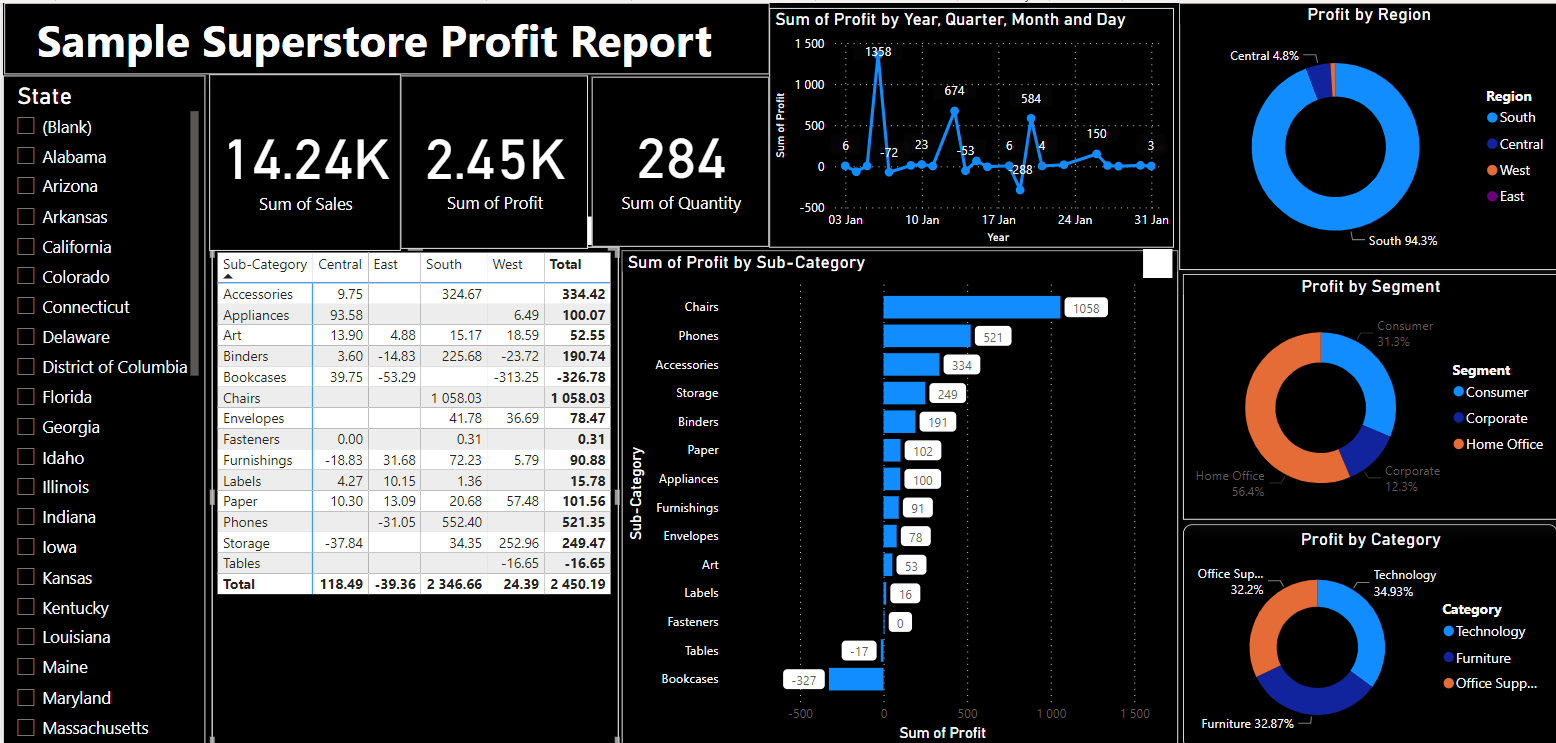

What the dashboard file says about the page in this screenshot:
{"tool":"powerbi","page":{"name":"Page 1","canvas":[1500,720],"ordinal":0},"visuals":[{"type":"textbox","box":[1,0,738.5,68.7],"z":0},{"type":"donutChart","title":"Profit by Category","fields":{"Category":["Orders.Category"],"Y":["Sum(Orders.Profit)"]},"box":[1138.8,503.1,361.2,216.9],"z":1000},{"type":"donutChart","title":"Profit by Region","fields":{"Y":["Sum(Orders.Profit)"],"Category":["Orders.Region"]},"box":[1134.7,0,365.3,257.4],"z":2000},{"type":"donutChart","title":"Profit by Segment","fields":{"Y":["Sum(Orders.Profit)"],"Series":["Orders.Segment"]},"box":[1138.8,261.4,361.2,237.1],"z":3000},{"type":"clusteredBarChart","fields":{"Y":["Sum(Orders.Profit)"],"Category":["Orders.Sub-Category"]},"box":[596.6,238.5,536.5,478.1],"z":4000},{"type":"lineChart","fields":{"Category":["Orders.Order Date.Variation.Date Hierarchy.Year","Orders.Order Date.Variation.Date Hierarchy.Quarter","Orders.Order Date.Variation.Date Hierarchy.Month","Orders.Order Date.Variation.Date Hierarchy.Day"],"Y":["Sum(Orders.Profit)"]},"box":[739.9,5.1,390.2,231.5],"z":5000},{"type":"slicer","fields":{"Values":["Orders.State"]},"box":[0,70.5,194.8,646.8],"z":6000},{"type":"pivotTable","fields":{"Rows":["Orders.Sub-Category"],"Columns":["Orders.Region"],"Values":["Sum(Orders.Profit)"]},"box":[201.1,235.3,393.2,483.4],"z":7000},{"type":"card","fields":{"Values":["Sum(Orders.Sales)"]},"box":[199.1,68.7,185,170.2],"z":8000},{"type":"card","fields":{"Values":["Sum(Orders.Profit)"]},"box":[384.1,69.7,180.9,167.4],"z":9000},{"type":"card","fields":{"Values":["Sum(Orders.Quantity)"]},"box":[567.7,70.8,171.2,163.7],"z":10000}]}

Visuals, with their boxes in screenshot pixels (x1, y1, x2, y2), scaled from the page's 1500x720 canvas onto the 1556x743 screenshot:
textbox: select_region(1, 0, 767, 71)
"Profit by Category" donutChart: select_region(1181, 519, 1555, 742)
"Profit by Region" donutChart: select_region(1177, 0, 1555, 266)
"Profit by Segment" donutChart: select_region(1181, 270, 1555, 514)
clusteredBarChart - Sum(Orders.Profit) x Orders.Sub-Category: select_region(619, 246, 1175, 739)
lineChart - Orders.Order Date.Variation.Date Hierarchy.Year x Orders.Order Date.Variation.Date Hierarchy.Quarter: select_region(768, 5, 1172, 244)
slicer - Orders.State: select_region(0, 73, 202, 740)
pivotTable - Orders.Sub-Category x Orders.Region: select_region(209, 243, 616, 742)
card - Sum(Orders.Sales): select_region(207, 71, 398, 247)
card - Sum(Orders.Profit): select_region(398, 72, 586, 245)
card - Sum(Orders.Quantity): select_region(589, 73, 766, 242)
